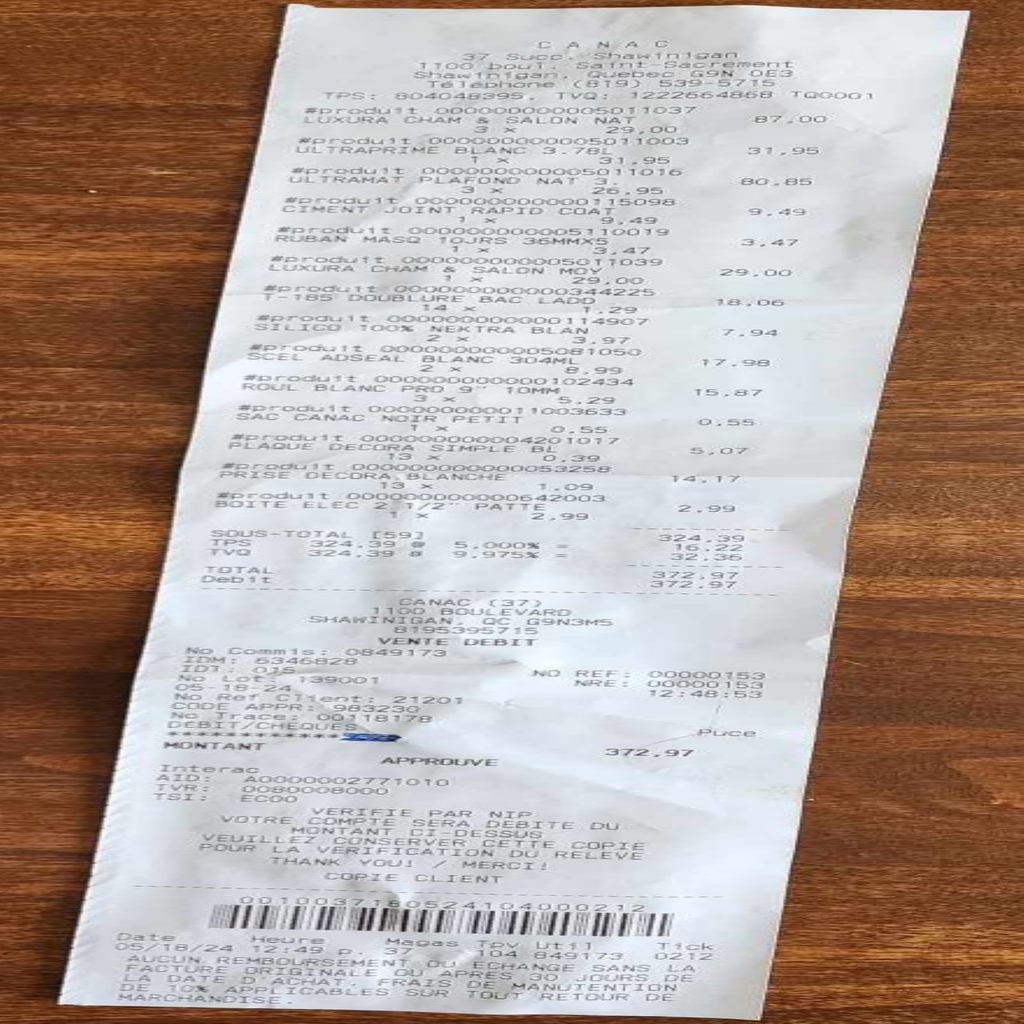recipt: (57, 5, 969, 1020)
